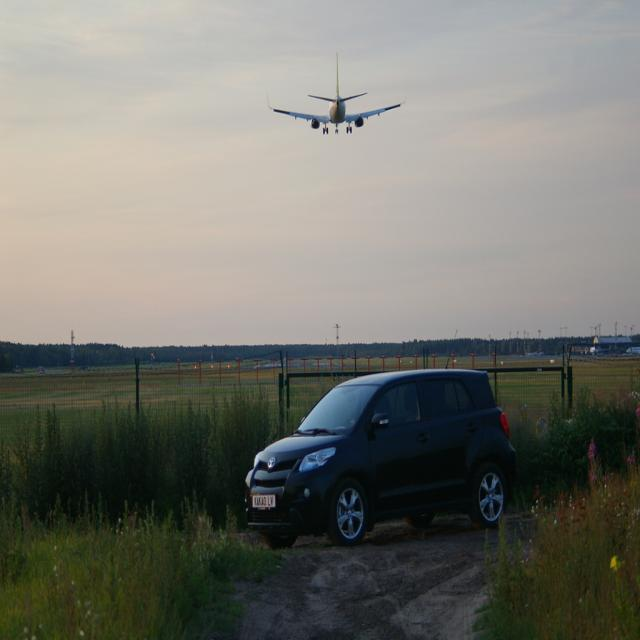car: (241, 369, 516, 543)
